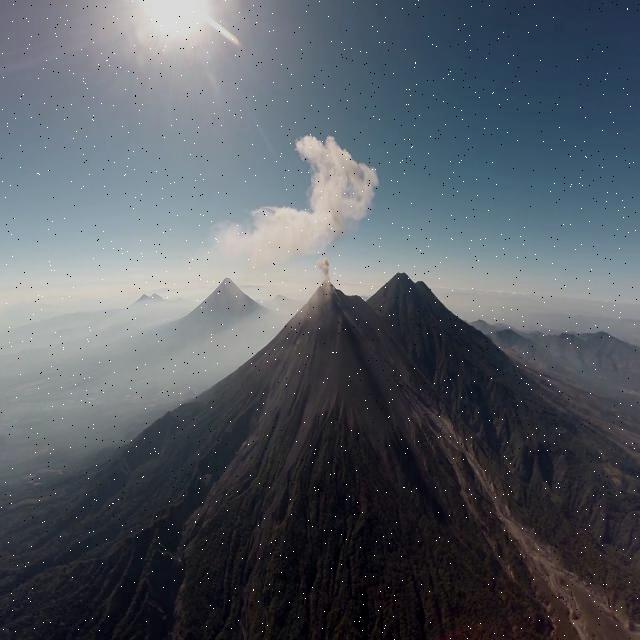Plume: (213, 130, 379, 268), (318, 255, 331, 283)
Summit: (314, 276, 344, 304)
